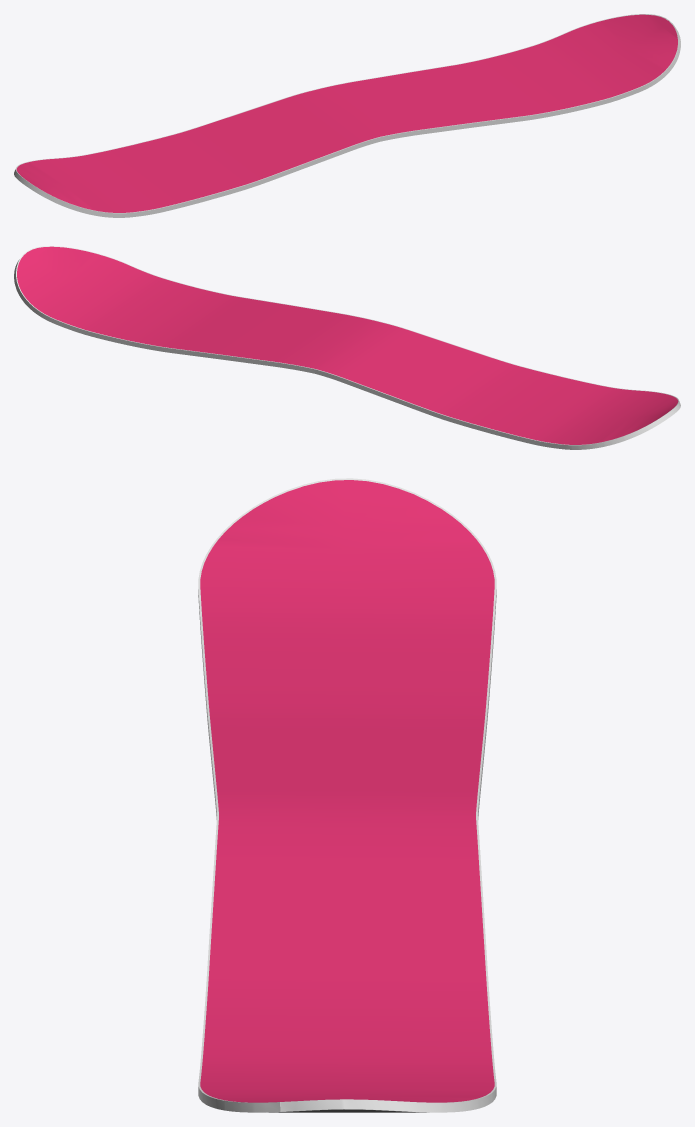
Rendered from board_twin-tip_hybrid-camber.gltf.
3 renders of one model, top to bottom at view 1: azimuth 30°, elevation 25°; view 2: azimuth 150°, elevation 25°; view 3: azimuth 270°, elevation 25°, orthographic. The views are drawn at different scales.
Visible parts, largest first — view 1: board-top, board-edge; view 2: board-top, board-edge; view 3: board-top, board-edge.
Boxes of the visible parts, <box> form: board-top: <box>16,14,677,212</box>; board-edge: <box>14,14,680,217</box>; board-top: <box>17,246,678,444</box>; board-edge: <box>14,246,680,449</box>; board-top: <box>200,480,494,1102</box>; board-edge: <box>198,478,496,1112</box>.
Bounding box in the file's own units: 1.51 × 0.0743 × 0.3009.
